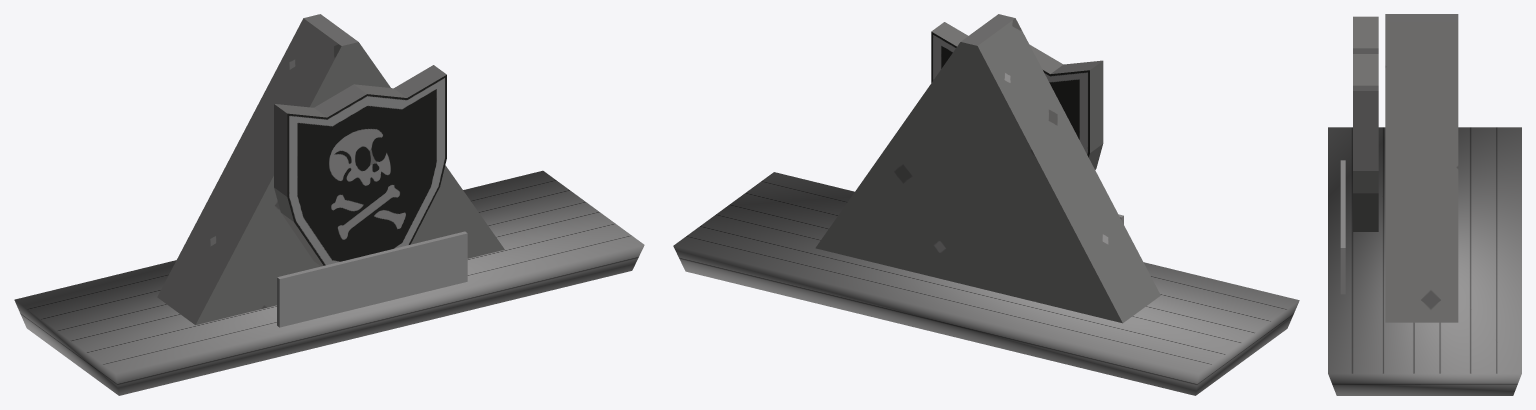
Rendered from Lapida_triangulo_U1.fbx.
3 renders of one model, left to right at view 1: azimuth 30°, elevation 25°; view 2: azimuth 150°, elevation 25°; view 3: azimuth 270°, elevation 25°, orthographic. The views are drawn at different scales.
Visible parts, largest first — view 1: Lapida_triangulo, lapida, escudo, placa; view 2: lapida, Lapida_triangulo, escudo; view 3: Lapida_triangulo, lapida, escudo, placa.
Part boxes in pixels (bbox=[...]): Lapida_triangulo: bbox=[14, 170, 644, 395]; lapida: bbox=[157, 14, 504, 324]; escudo: bbox=[274, 65, 446, 266]; placa: bbox=[277, 231, 467, 327]; lapida: bbox=[815, 14, 1160, 323]; Lapida_triangulo: bbox=[673, 172, 1299, 395]; escudo: bbox=[931, 22, 1103, 169]; Lapida_triangulo: bbox=[1328, 127, 1521, 395]; lapida: bbox=[1385, 14, 1458, 322]; escudo: bbox=[1353, 16, 1378, 231]; placa: bbox=[1340, 160, 1345, 294].
Bounding box in the file's own units: 3.42 × 1.67 × 1.14.
